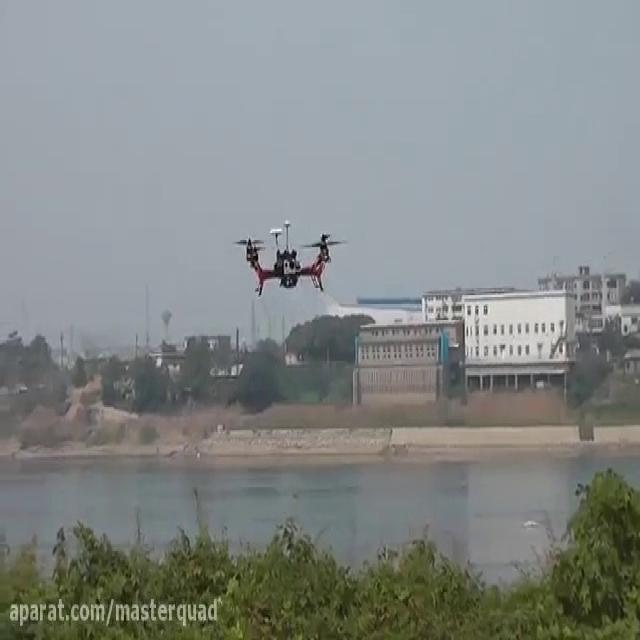drone: (225, 208, 351, 308)
